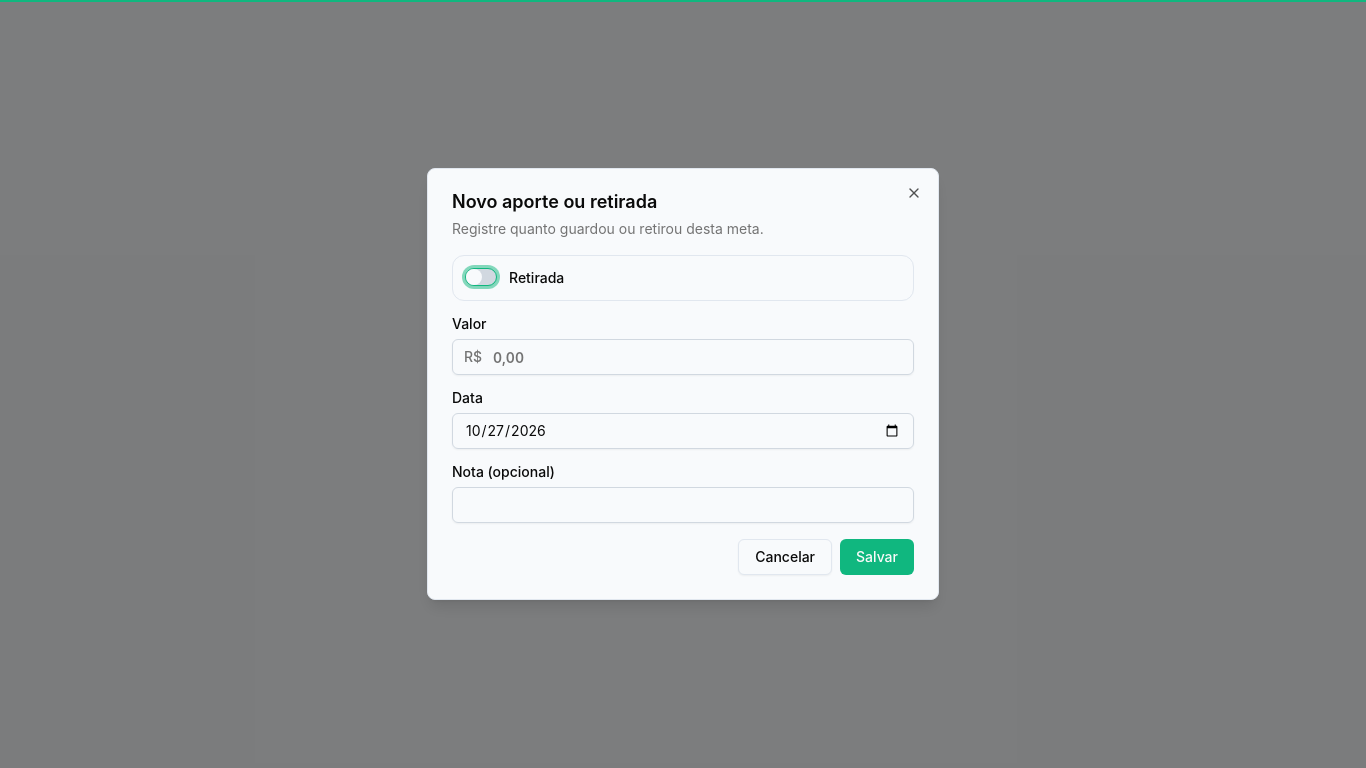
Test case: ContributionFormDialog › exige um valor maior que zero
Click the button "Salvar" at [877, 557], box [840,539,914,575]
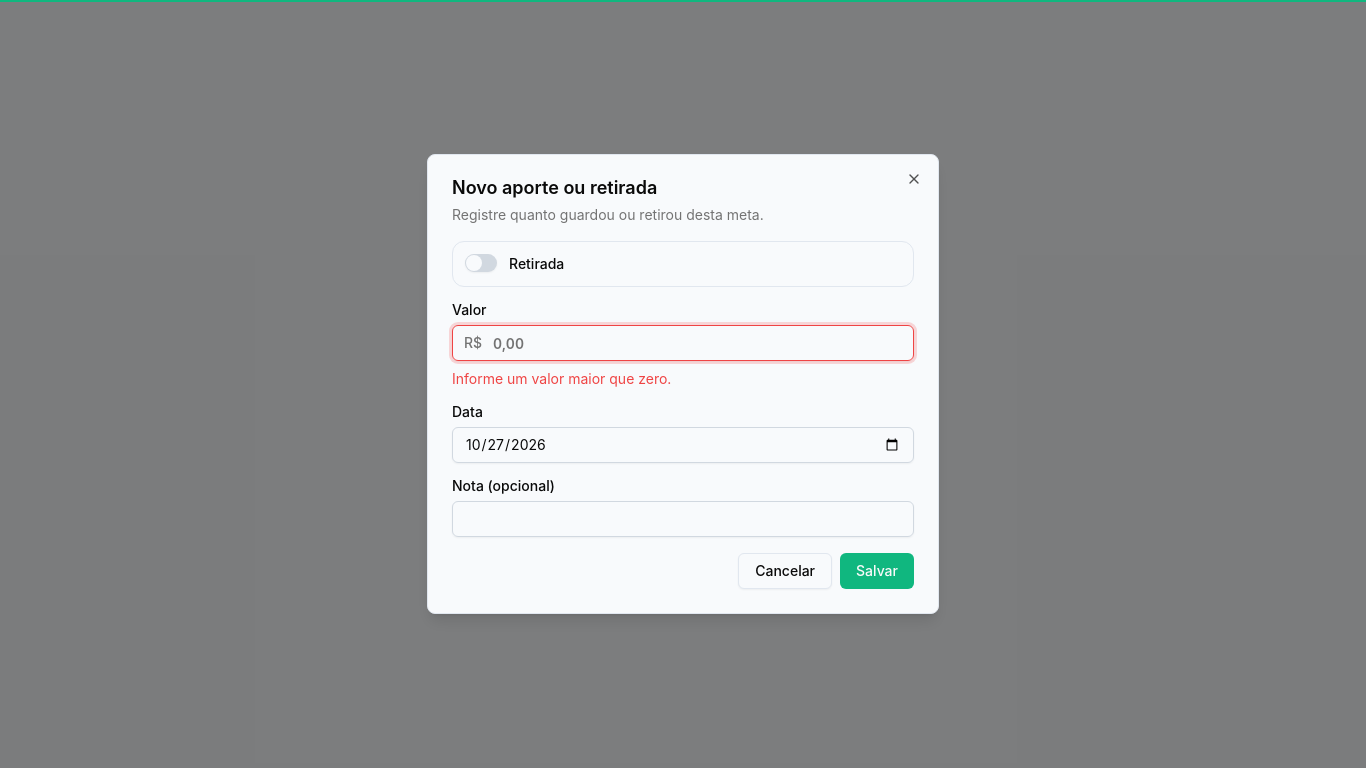
Expected: the text "Informe um valor maior que zero." is shown, [452,370,671,387]
